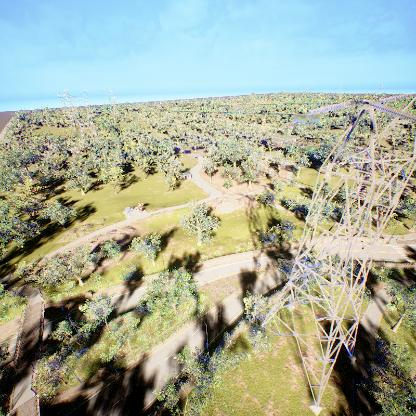tower: (239, 81, 415, 415)
